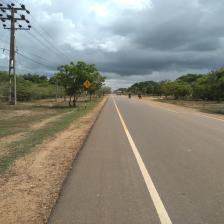yellowboard: (81, 80, 92, 87)
